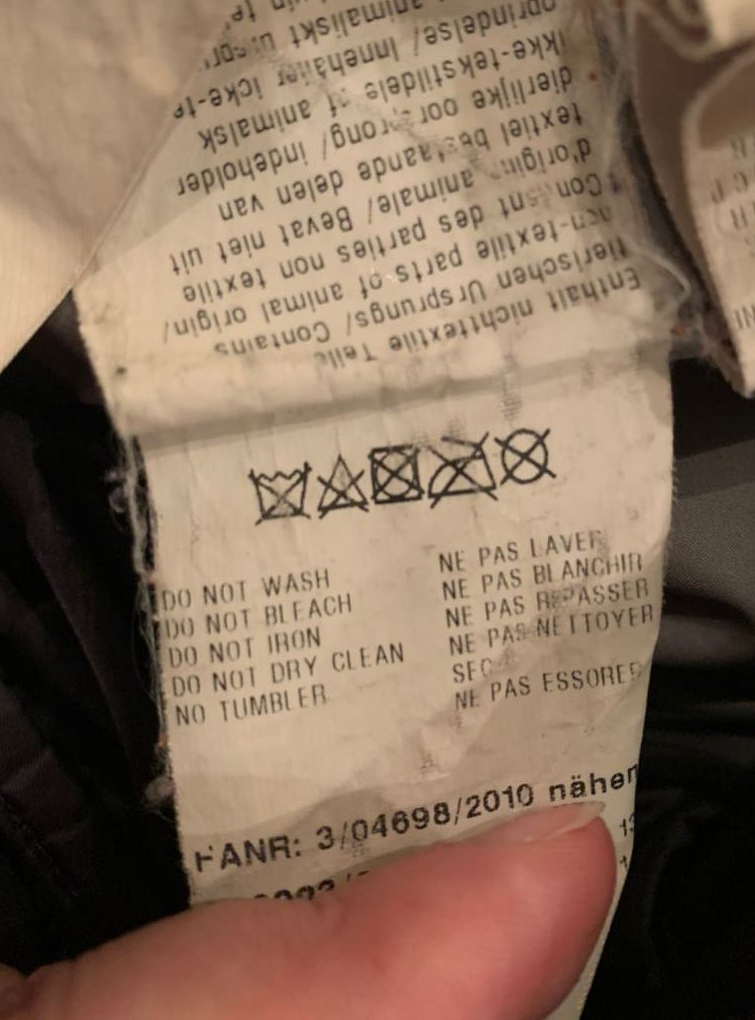do_not_bleach: (313, 447, 369, 521)
do_not_dry_clean: (497, 414, 559, 488)
do_not_iron: (424, 424, 495, 507)
do_not_tumble_drying: (362, 437, 426, 508)
do_not_wash: (244, 455, 314, 525)
